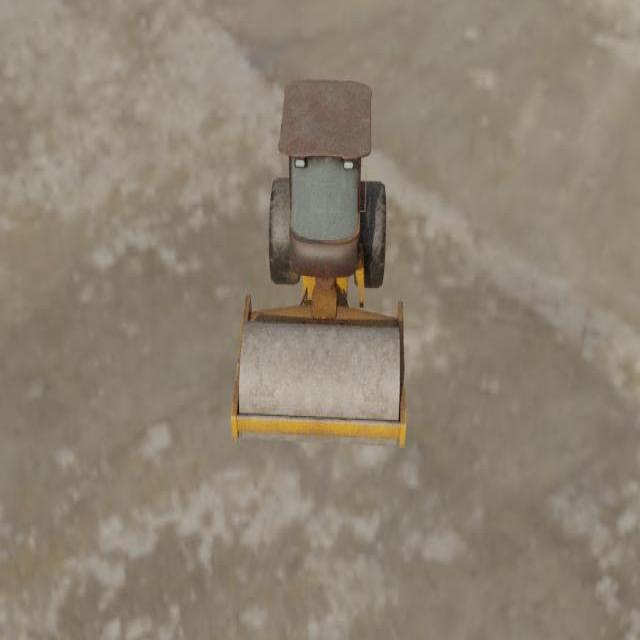Roller: (230, 77, 406, 448)
